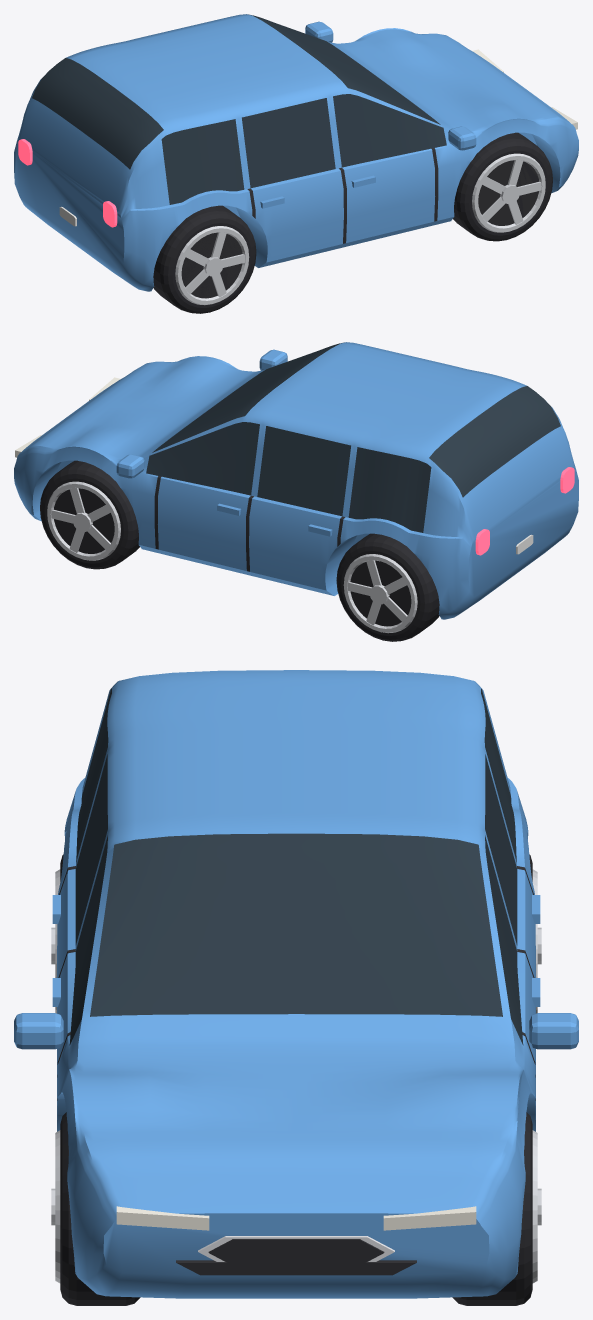
File: furd_fiasta.fbx
3 renders of one model, top to bottom at view 1: azimuth 30°, elevation 25°; view 2: azimuth 150°, elevation 25°; view 3: azimuth 270°, elevation 25°, orthographic. The views are drawn at different scales.
Parts seen in each view (by area): view 1: Body, Glass, Tire, Rim, Trim, TailLight; view 2: Body, Glass, Tire, Rim, Trim, TailLight; view 3: Body, Glass, Trim, Tire, HeadLight, Rim, Chrome.
Part boxes in pixels (x1,y1,x2,y2): Body: (14,14,578,291); Glass: (32,14,446,204); Tire: (153,132,552,313); Rim: (175,153,545,305); Trim: (181,148,538,298); TailLight: (18,139,117,227); Body: (14,342,578,619); Glass: (146,342,560,532); Tire: (40,460,439,641); Rim: (47,481,417,633); Trim: (154,476,407,622); TailLight: (475,467,574,555); Body: (14,670,578,1298); Glass: (69,688,523,1045); Trim: (57,866,535,1275); Tire: (60,854,532,1305); HeadLight: (116,1206,476,1230); Rim: (51,869,541,1283); Chrome: (198,1236,394,1261).
Size of the model in its own units: 1164 by 455 by 684.
